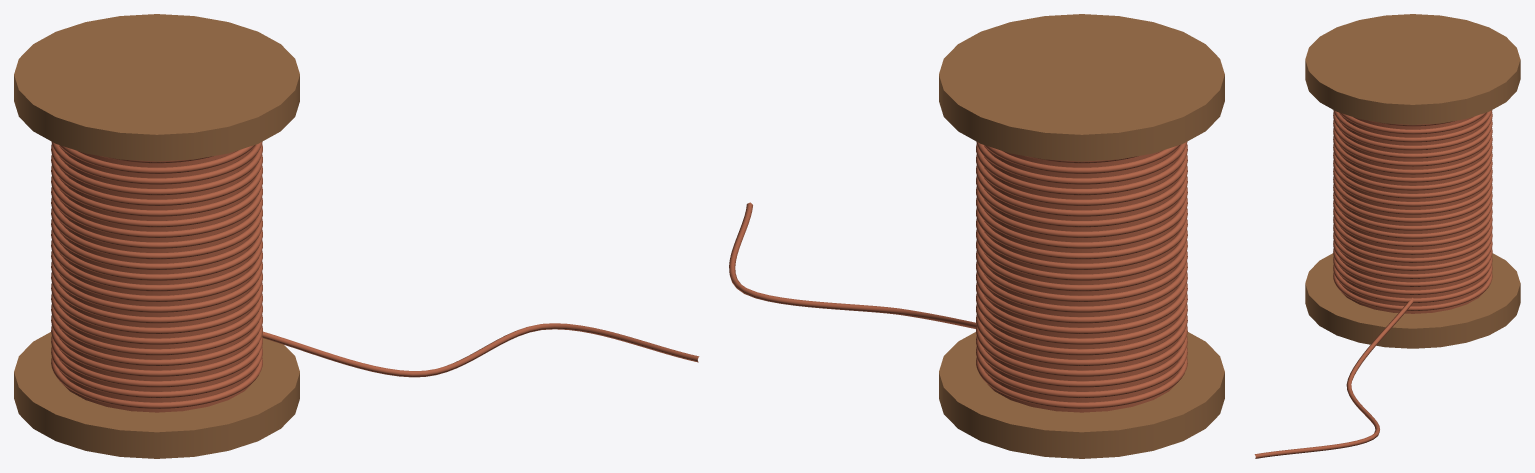
The model's file is thread-spool.glb.
3 renders of one model, left to right at view 1: azimuth 30°, elevation 25°; view 2: azimuth 150°, elevation 25°; view 3: azimuth 270°, elevation 25°, orthographic. The views are drawn at different scales.
Visible parts, largest first — view 1: spool-top, thread-core, spool-base, trailing-thread, thread-wrap-17, thread-wrap-7, thread-wrap-4, thread-wrap-20, thread-wrap-13, thread-wrap-14, thread-wrap-10, thread-wrap-11 (+15 smaller); view 2: spool-top, thread-core, spool-base, trailing-thread, thread-wrap-17, thread-wrap-7, thread-wrap-14, thread-wrap-13, thread-wrap-20, thread-wrap-12, thread-wrap-11, thread-wrap-4 (+15 smaller); view 3: spool-top, thread-core, spool-base, trailing-thread, thread-wrap-12, thread-wrap-10, thread-wrap-11, thread-wrap-14, thread-wrap-13, thread-wrap-15, thread-wrap-18, thread-wrap-19 (+15 smaller).
Part boxes in pixels (x1,y1,x2,y2): spool-top: (14, 14, 299, 161); thread-core: (59, 146, 254, 412); spool-base: (14, 332, 299, 458); trailing-thread: (262, 323, 699, 377); thread-wrap-17: (51, 176, 262, 227); thread-wrap-7: (51, 282, 262, 333); thread-wrap-4: (51, 314, 262, 365); thread-wrap-20: (51, 144, 262, 195); thread-wrap-13: (51, 218, 262, 269); thread-wrap-14: (51, 208, 262, 259); thread-wrap-10: (51, 250, 262, 301); thread-wrap-11: (51, 240, 262, 291); spool-top: (939, 14, 1224, 161); thread-core: (984, 146, 1179, 412); spool-base: (939, 332, 1224, 458); trailing-thread: (729, 202, 976, 328); thread-wrap-17: (976, 176, 1187, 227); thread-wrap-7: (976, 282, 1187, 333); thread-wrap-14: (976, 208, 1187, 259); thread-wrap-13: (976, 218, 1187, 269); thread-wrap-20: (976, 144, 1187, 195); thread-wrap-12: (976, 229, 1187, 280); thread-wrap-11: (976, 240, 1187, 291); thread-wrap-4: (976, 314, 1187, 365); spool-top: (1305, 14, 1520, 124); thread-core: (1339, 113, 1486, 313); spool-base: (1305, 253, 1520, 348); trailing-thread: (1254, 297, 1413, 458); thread-wrap-12: (1333, 176, 1492, 214); thread-wrap-10: (1333, 192, 1492, 230); thread-wrap-11: (1333, 184, 1492, 222); thread-wrap-14: (1333, 160, 1492, 198); thread-wrap-13: (1333, 168, 1492, 206); thread-wrap-15: (1333, 152, 1492, 190); thread-wrap-18: (1333, 128, 1492, 166); thread-wrap-19: (1333, 120, 1492, 158).
Bounding box in the file's own units: 0.7731 × 0.4306 × 0.4218.
